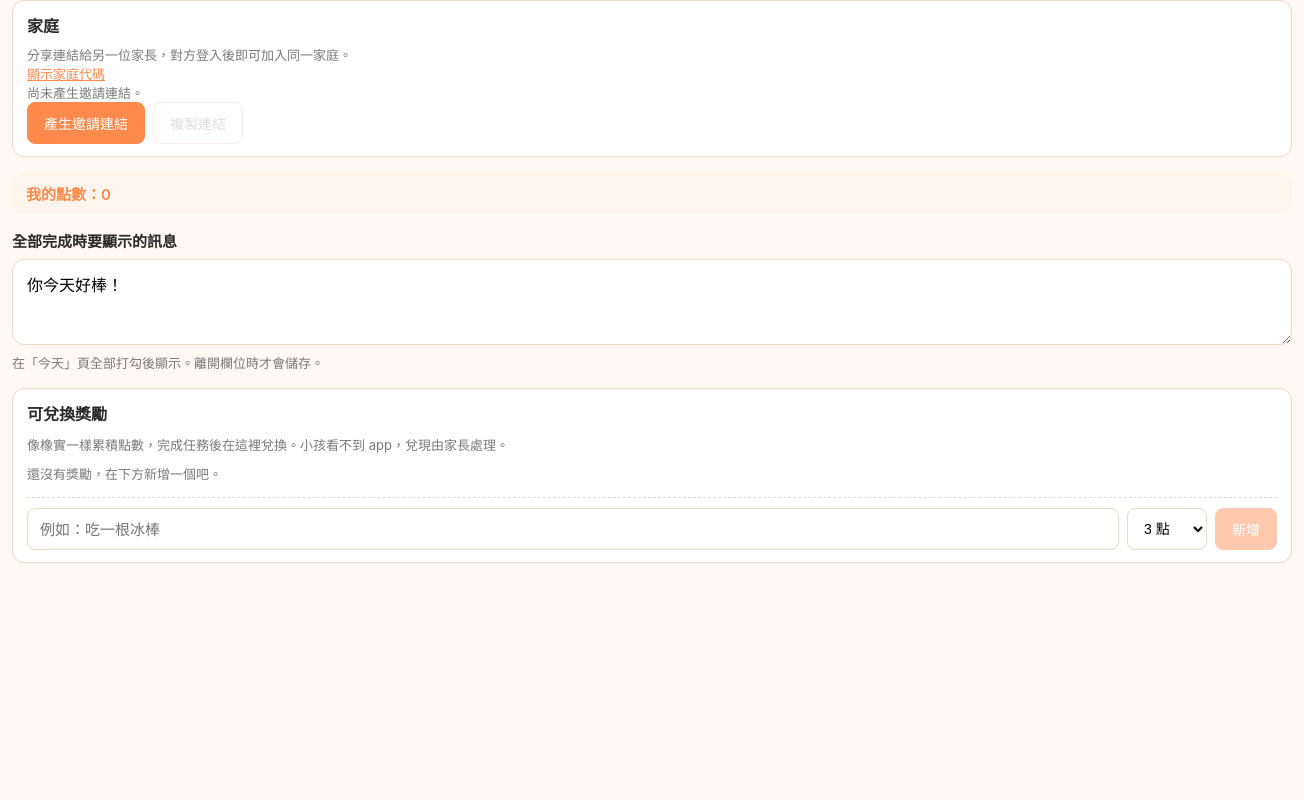
Test: SettingsPage family section › shows copy success status after copying invite link
This screenshot has width=1304, height=800.
Click the button with test id "generate-invite-button": click(86, 123) x1=27 y1=102 x2=145 y2=144
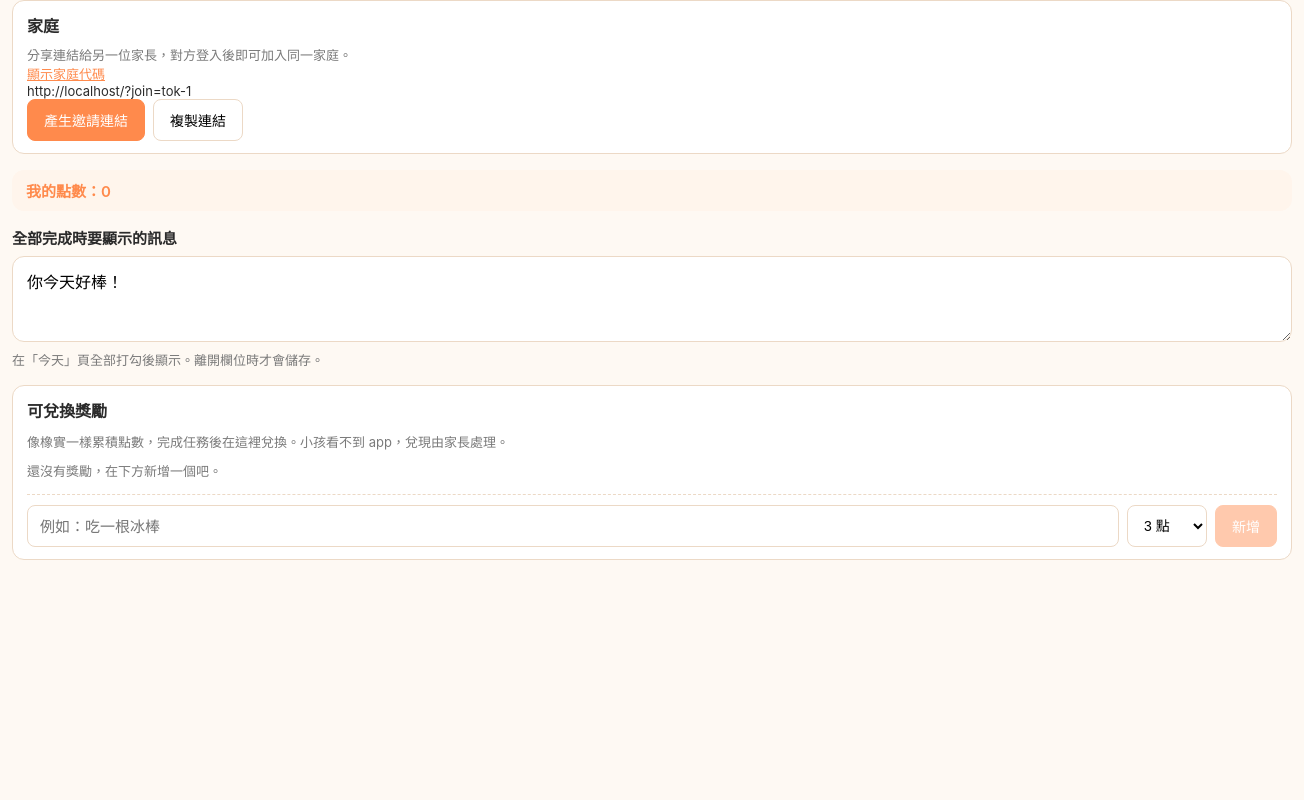
Now the text with test id "settings-invite-url" is shown, box x1=27 y1=83 x2=191 y2=99
Click the button with test id "copy-invite-button": click(198, 120) x1=153 y1=99 x2=243 y2=141
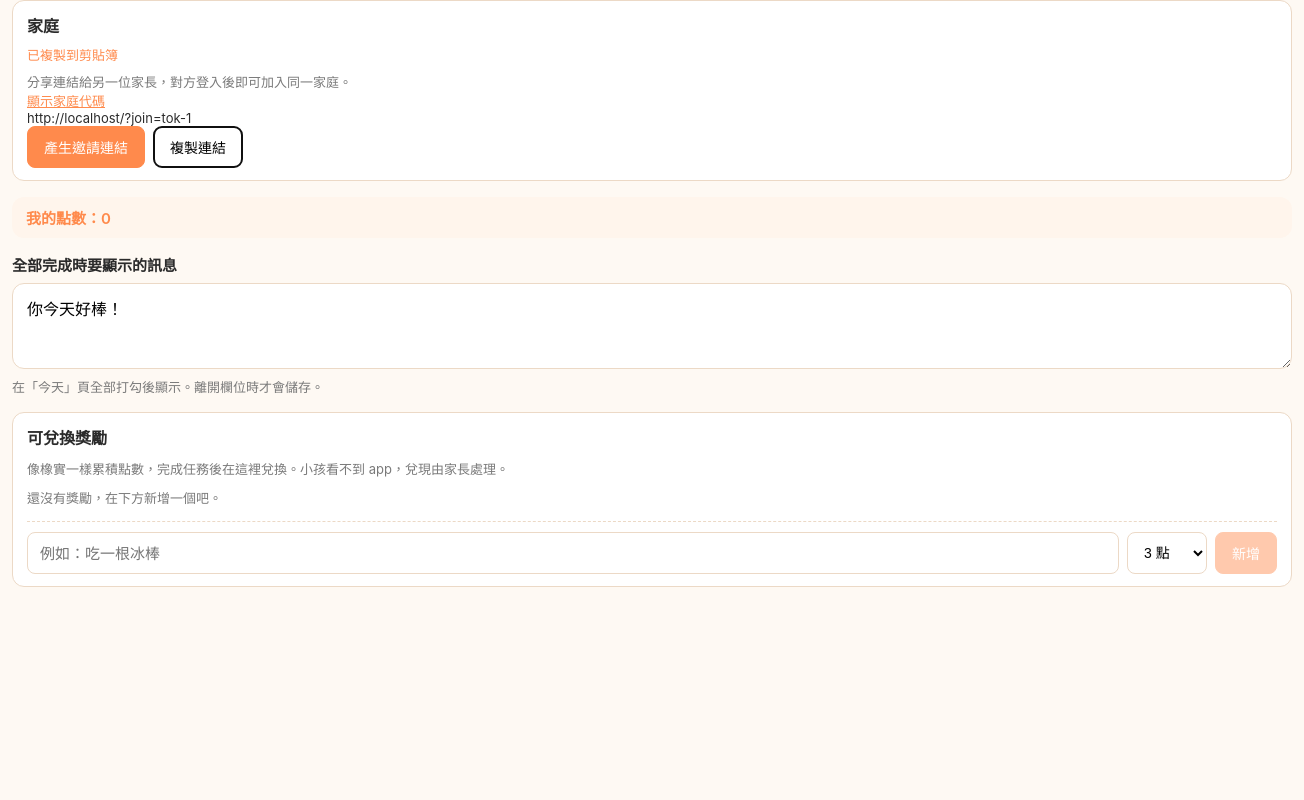
Now the message reads "已複製到剪貼簿", box x1=27 y1=47 x2=118 y2=63
